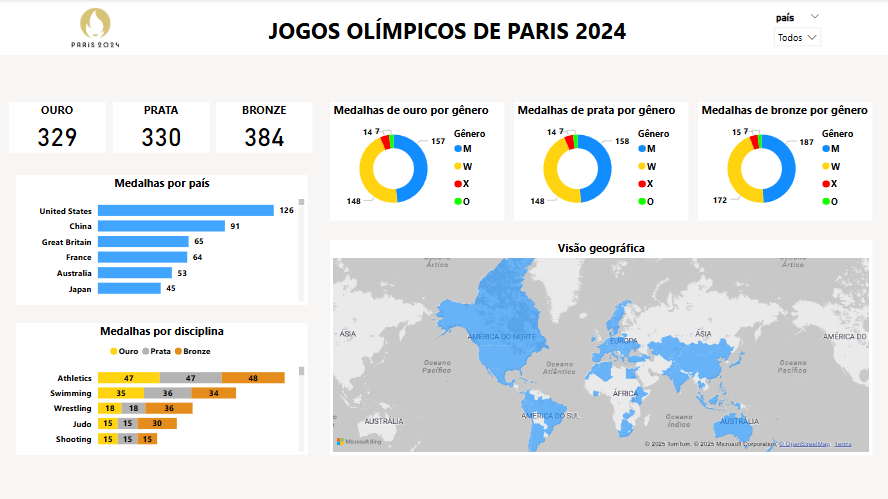

The dashboard page shown, as its layout file describes it:
{"tool":"powerbi","page":{"name":"Página 1","canvas":[1280,720],"ordinal":0},"visuals":[{"type":"card","title":"OURO","fields":{"Values":["Sum(medals_total.Gold Medal)"]},"box":[12.9,148.6,138.6,72.9],"z":0},{"type":"card","title":"PRATA","fields":{"Values":["Sum(medals_total.Silver Medal)"]},"box":[162.9,148.6,138.6,72.9],"z":1000},{"type":"card","title":"BRONZE","fields":{"Values":["Sum(medals_total.Bronze Medal)"]},"box":[311.4,148.6,138.6,72.9],"z":2000},{"type":"filledMap","title":"Visão geográfica","fields":{"Category":["medals_total.country"]},"box":[475.7,347.1,781.4,310],"z":3000},{"type":"donutChart","title":"Medalhas de prata por gênero","fields":{"Category":["medals.gender"],"Y":["medals.ContagemMedalhasPrata"]},"box":[740,148.6,251.4,171.4],"z":4000},{"type":"donutChart","title":"Medalhas de bronze por gênero","fields":{"Category":["medals.gender"],"Y":["medals.ContagemMedalhasBronze"]},"box":[1005.7,148.6,251.4,171.4],"z":5000},{"type":"donutChart","title":"Medalhas de ouro por gênero","fields":{"Category":["medals.gender"],"Y":["medals.ContagemMedalhasOuro"]},"box":[475.7,148.6,251.4,171.4],"z":6000},{"type":"shape","box":[0,0,1280.2,80.6],"z":7000},{"type":"textbox","box":[381.6,17.3,545.8,54.7],"z":8000},{"type":"slicer","title":"Países","fields":{"Values":["medals_total.country"]},"box":[1104.5,13,87.8,54.7],"z":9000},{"type":"barChart","title":"Medalhas por país","fields":{"Category":["medals_total.country"],"Y":["Sum(medals_total.Total)"]},"box":[22.9,252.9,420,187.1],"z":10000},{"type":"barChart","title":"Medalhas por disciplina","fields":{"Category":["medals.discipline"],"Y":["medals.ContagemMedalhasOuro","medals.ContagemMedalhasPrata","medals.ContagemMedalhasBronze"]},"box":[22.9,467.1,420,190],"z":11000},{"type":"image","box":[64.8,7.2,144,67.7],"z":12000}]}

Visuals, with their boxes in screenshot pixels (x1, y1, x2, y2), scaled from the page's 1280x720 canvas onto the 888x499 screenshot:
"OURO" card: bbox=(9, 103, 105, 154)
"PRATA" card: bbox=(113, 103, 209, 154)
"BRONZE" card: bbox=(216, 103, 312, 154)
"Visão geográfica" filledMap: bbox=(330, 241, 872, 455)
"Medalhas de prata por gênero" donutChart: bbox=(513, 103, 688, 222)
"Medalhas de bronze por gênero" donutChart: bbox=(698, 103, 872, 222)
"Medalhas de ouro por gênero" donutChart: bbox=(330, 103, 504, 222)
shape: bbox=(0, 0, 887, 56)
textbox: bbox=(265, 12, 643, 50)
"Países" slicer: bbox=(766, 9, 827, 47)
"Medalhas por país" barChart: bbox=(16, 175, 307, 305)
"Medalhas por disciplina" barChart: bbox=(16, 324, 307, 455)
image: bbox=(45, 5, 145, 52)
